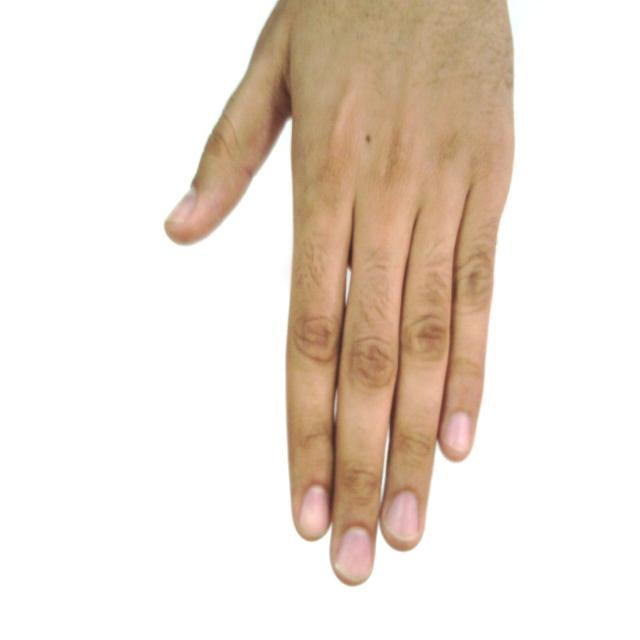Fingernail: (337, 528, 371, 583), (384, 492, 418, 540), (300, 486, 328, 537), (445, 413, 471, 452), (168, 189, 196, 223)
